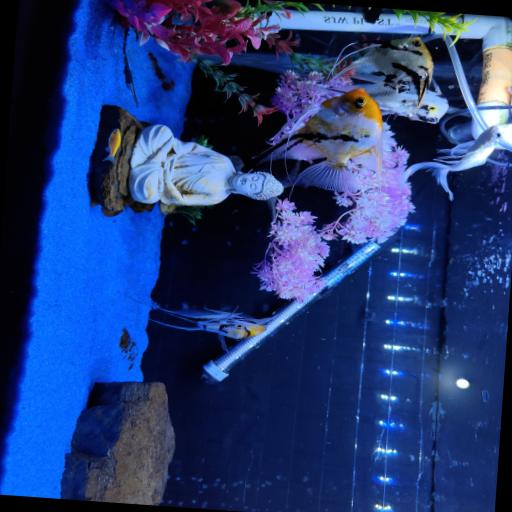Fish: (259, 88, 382, 191), (403, 124, 500, 198), (343, 36, 432, 110), (146, 303, 269, 350), (377, 80, 448, 122), (378, 80, 448, 122), (102, 128, 120, 162)
